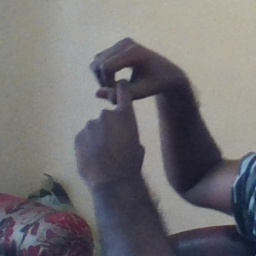Q: (72, 38, 171, 164)
